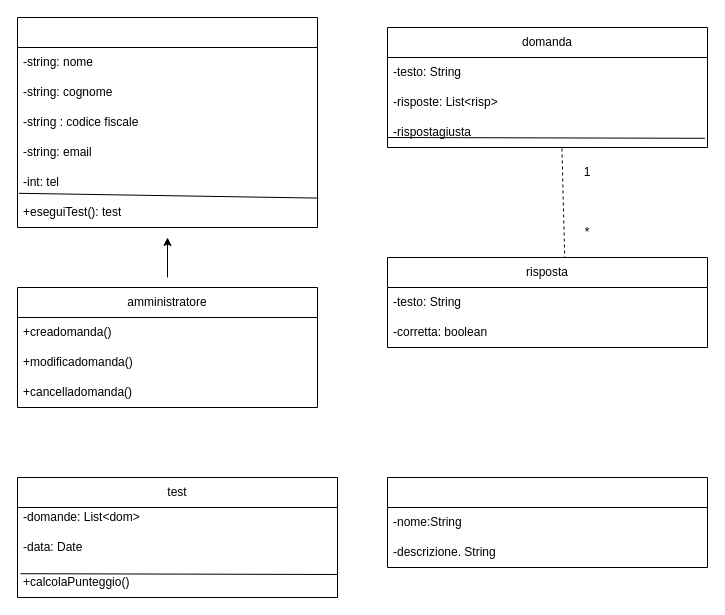
Some shapes in this 725 by 615 pixel diagram are drawn without their labels. The box of each missing label's shape, as (x1, y1, x2, y2) in pixels:
categoria: (386, 476, 708, 568)
utente: (16, 16, 318, 228)
